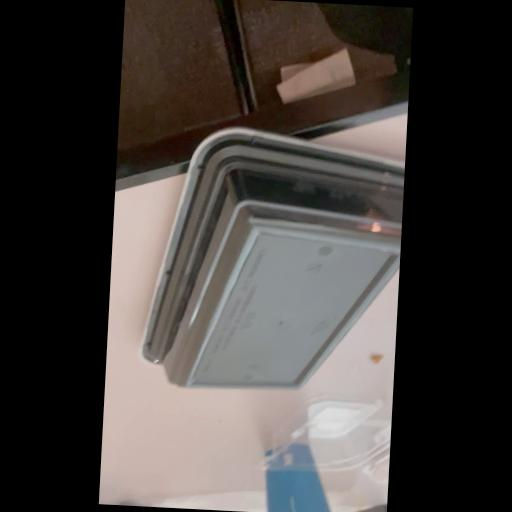rigid_plastic_container: (137, 130, 406, 396)
